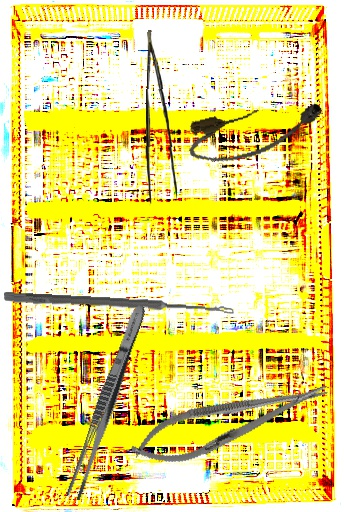Cannula: (183, 94, 330, 170)
Dressing Forceps: (64, 302, 150, 502)
Needle Holder: (125, 366, 335, 478)
Surgical Spoon: (3, 291, 235, 316)
Tissue Forceps: (144, 29, 180, 207)
